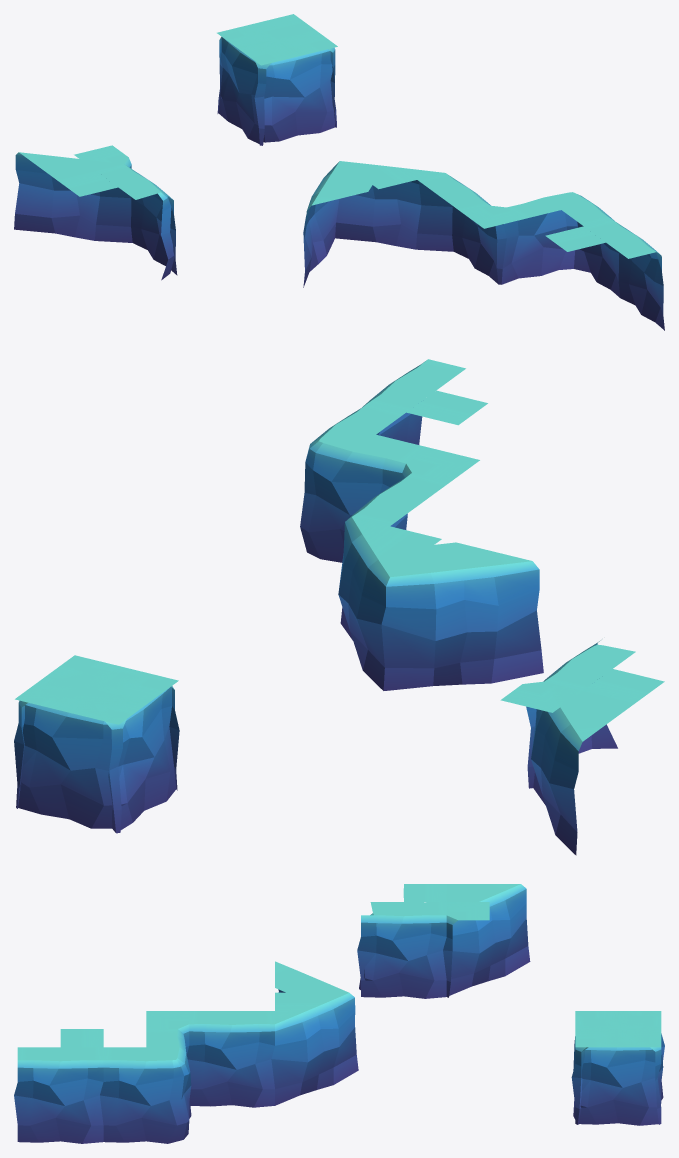
File: Scene_Scene_Collection.fbx
3 renders of one model, top to bottom at view 1: azimuth 30°, elevation 25°; view 2: azimuth 150°, elevation 25°; view 3: azimuth 270°, elevation 25°, orthographic. The views are drawn at different scales.
Parts seen in each view (by area): view 1: Diagonal.002, Diagonal, Side.012, Side.001, Side.004, Diagonal.003, Side.017, DiagonalTop.003, Side, DiagonalCornerTop, DiagonalCornerTop.002, Side.002 (+31 smaller); view 2: Diagonal.003, Side.013, Side.001, Diagonal.002, Diagonal, Side.004, DiagonalTop.003, DiagonalCornerTop.002, DiagonalCornerTop, TopNoWalls.005, TopNoWalls, TopInnerCorner.002 (+21 smaller); view 3: Diagonal.002, Diagonal, Side, Side.002, Side.017, Side.003, Side.014, SideSmallLeft.010, SideSmallLeft.003, SideSmallRight.010, SideSmallRight, SideSmallRight.002 (+32 smaller).
Boxes of the visible parts, x1,y1,x2,y2 form: Diagonal.002: [335, 180, 453, 251]; Diagonal: [14, 152, 132, 242]; Side.012: [272, 51, 326, 141]; Side.001: [511, 210, 566, 278]; Side.004: [223, 42, 257, 138]; Diagonal.003: [303, 161, 339, 287]; Side.017: [622, 227, 660, 321]; DiagonalTop.003: [340, 161, 444, 189]; Side: [134, 171, 168, 265]; DiagonalCornerTop: [19, 152, 123, 177]; DiagonalCornerTop.002: [312, 161, 372, 205]; Side.002: [455, 180, 493, 275]; Diagonal.003: [381, 561, 543, 690]; Side.013: [29, 705, 103, 828]; Side.001: [308, 443, 385, 562]; Diagonal.002: [338, 517, 389, 690]; Diagonal: [531, 707, 582, 855]; Side.004: [123, 693, 170, 822]; DiagonalTop.003: [352, 517, 441, 576]; DiagonalCornerTop.002: [390, 542, 531, 577]; DiagonalCornerTop: [545, 682, 626, 741]; TopNoWalls.005: [406, 390, 487, 425]; TopNoWalls: [583, 669, 664, 703]; TopInnerCorner.002: [406, 447, 479, 481]; Diagonal.002: [271, 993, 358, 1105]; Diagonal: [449, 884, 530, 995]; Side: [373, 915, 434, 998]; Side.002: [201, 1024, 262, 1107]; Side.017: [30, 1060, 90, 1143]; Side.003: [116, 1060, 176, 1143]; Side.014: [587, 1047, 648, 1125]; SideSmallLeft.010: [14, 1060, 38, 1142]; SideSmallLeft.003: [100, 1060, 124, 1142]; SideSmallRight.010: [82, 1060, 103, 1143]; SideSmallRight: [425, 915, 446, 998]; SideSmallRight.002: [254, 1024, 274, 1107].
Bounding box in the file's own units: 1507 × 305 × 2276.
